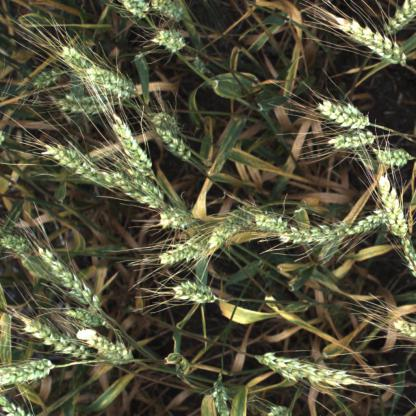whd: (29, 240, 107, 316), (331, 9, 415, 68), (257, 346, 365, 391), (12, 310, 98, 362), (38, 140, 109, 187), (376, 174, 414, 244), (112, 113, 153, 176), (154, 231, 218, 267), (310, 94, 370, 130), (276, 220, 347, 250), (149, 119, 195, 164), (0, 354, 56, 387), (209, 206, 254, 245), (345, 205, 394, 239), (116, 180, 162, 214), (86, 67, 135, 96), (86, 335, 134, 364), (208, 367, 236, 416), (56, 40, 94, 76), (382, 0, 416, 37), (62, 307, 114, 330), (392, 235, 416, 281), (330, 128, 374, 150), (126, 173, 166, 197), (176, 281, 214, 304), (56, 97, 108, 113), (162, 206, 195, 231), (113, 0, 152, 21), (254, 212, 288, 234), (372, 146, 409, 166), (152, 0, 183, 23), (154, 30, 186, 52), (0, 394, 32, 416), (0, 232, 32, 252), (153, 114, 181, 132), (33, 69, 59, 88), (391, 320, 416, 337), (193, 55, 210, 73), (261, 405, 291, 415)
